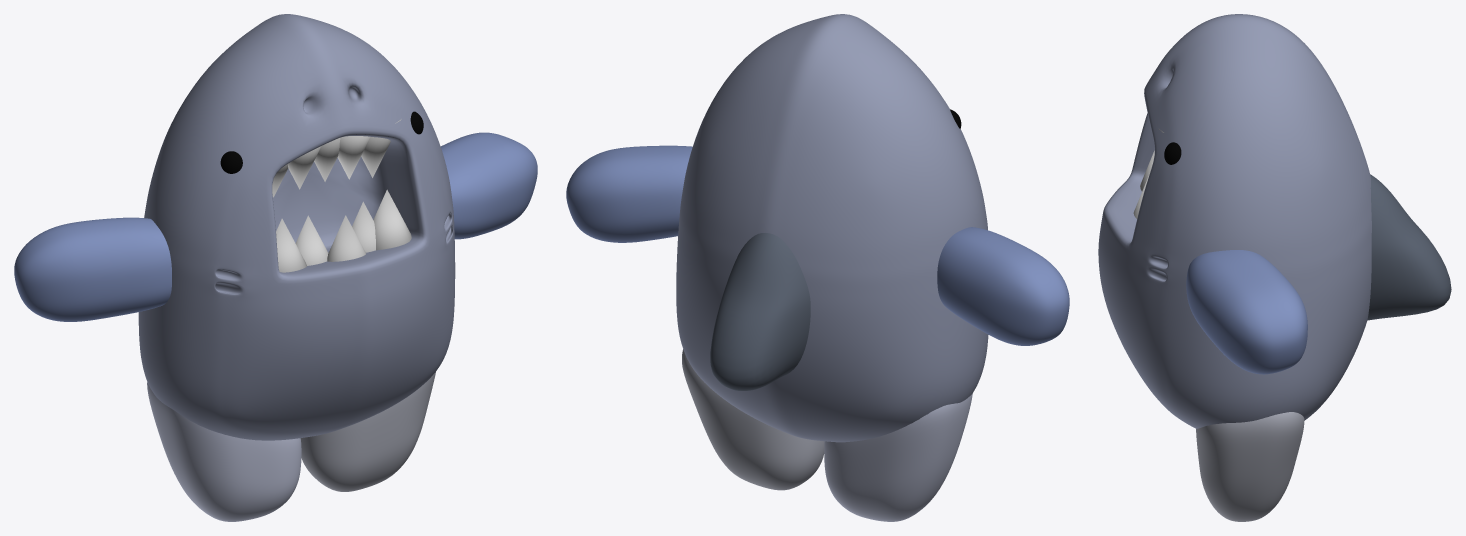
File: babySHARKอิอิ.fbx
3 views of the same model, side by side, from view 1: azimuth 30°, elevation 25°; view 2: azimuth 150°, elevation 25°; view 3: azimuth 270°, elevation 25° (orthographic). The views are drawn at different scales.
Visible parts, largest first — view 1: BODY, arm le, leg le, arm ri, leg ri, Cone.009, Cone.007, Cone.006, Cone.005, Cone.004, Cone.008, Cone.003 (+2 smaller); view 2: BODY, Roundcube, arm le, leg le, arm ri, leg ri; view 3: BODY, arm ri, leg ri, Roundcube.
Part boxes in pixels (x1,y1,x2,y2): BODY: (138,14,455,440); arm le: (14,217,171,321); leg le: (147,382,301,521); arm ri: (440,132,537,239); leg ri: (300,372,435,491); Cone.009: (373,189,411,250); Cone.007: (327,215,366,261); Cone.006: (276,218,306,272); Cone.005: (295,215,328,265); Cone.004: (337,136,370,179); Cone.008: (352,201,375,252); Cone.003: (361,119,401,177); BODY: (676,14,988,442); Roundcube: (710,233,810,390); arm le: (937,227,1069,345); leg le: (824,394,972,521); arm ri: (566,145,692,242); leg ri: (682,349,824,490); BODY: (1098,14,1371,428); arm ri: (1186,250,1307,374); leg ri: (1196,412,1304,521); Roundcube: (1367,174,1451,320).
Size of the model in its own units: 399 by 365 by 247.
